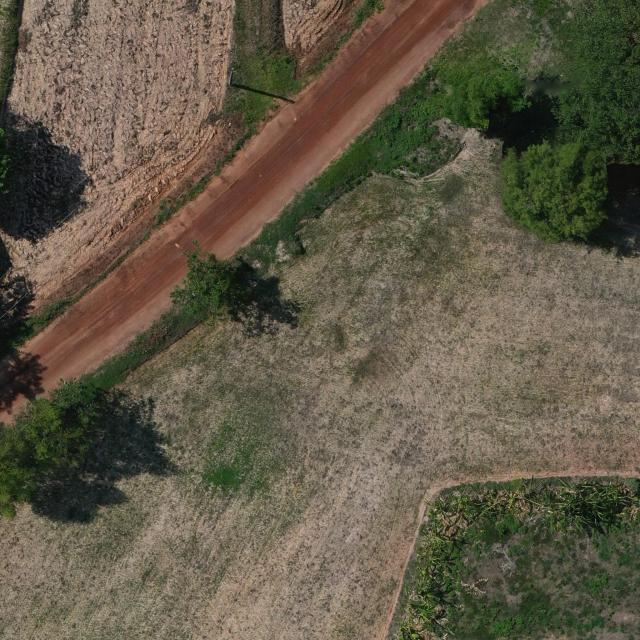tree: (0, 374, 100, 521), (498, 137, 619, 254), (164, 238, 233, 322), (441, 68, 524, 136)
